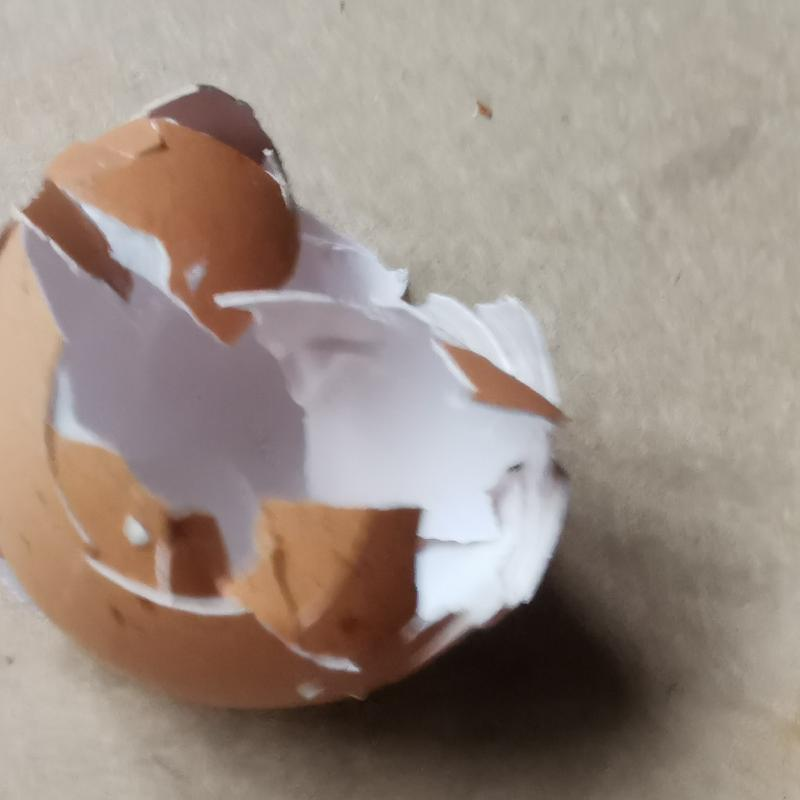eggshell: (3, 81, 574, 719)
